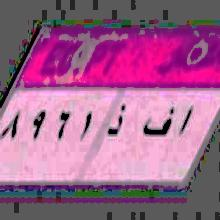1: (78, 106, 94, 148)
6: (54, 100, 71, 155)
8: (1, 107, 22, 153)
9: (29, 108, 48, 149)
alif: (176, 98, 194, 143)
faa: (141, 99, 174, 145)
zaal: (107, 100, 128, 141)
